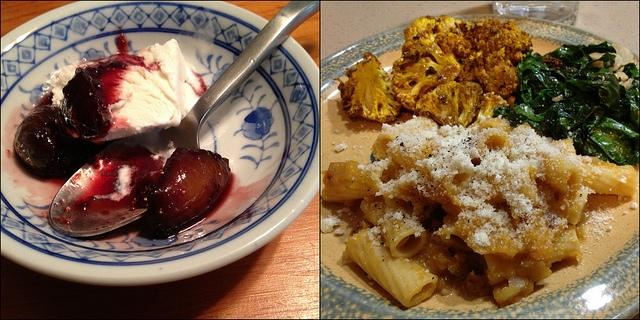cauliflower: (391, 29, 472, 111), (338, 53, 402, 124), (416, 81, 510, 128), (476, 21, 532, 62), (474, 64, 518, 99), (484, 46, 506, 70)
